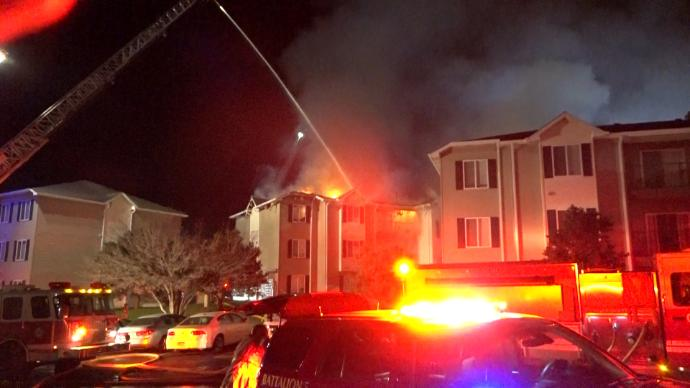Fire: (390, 204, 417, 228)
